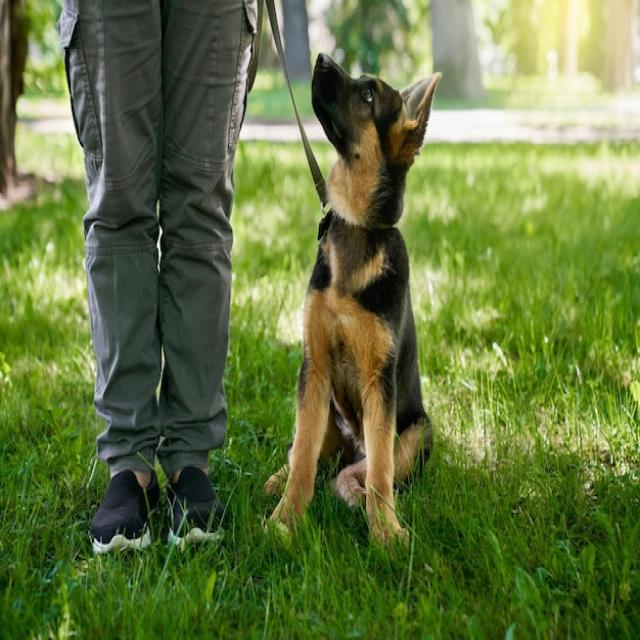Dog: (263, 51, 442, 558)
